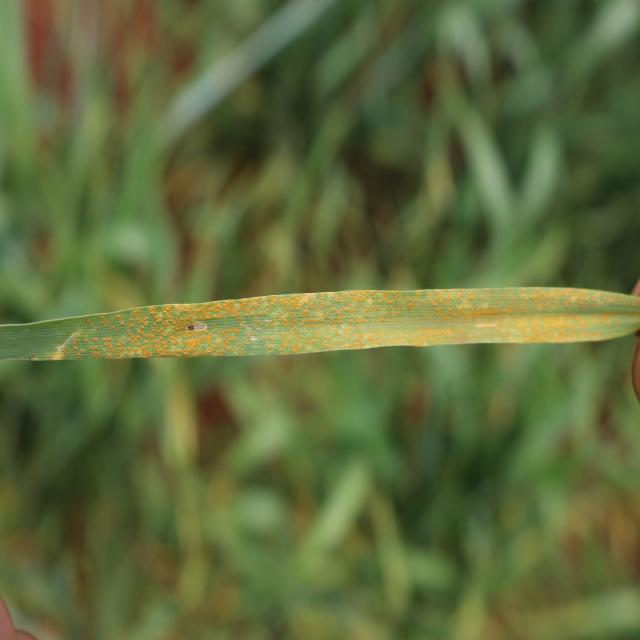Stripe Rust: (223, 298, 614, 338), (74, 312, 208, 359)
